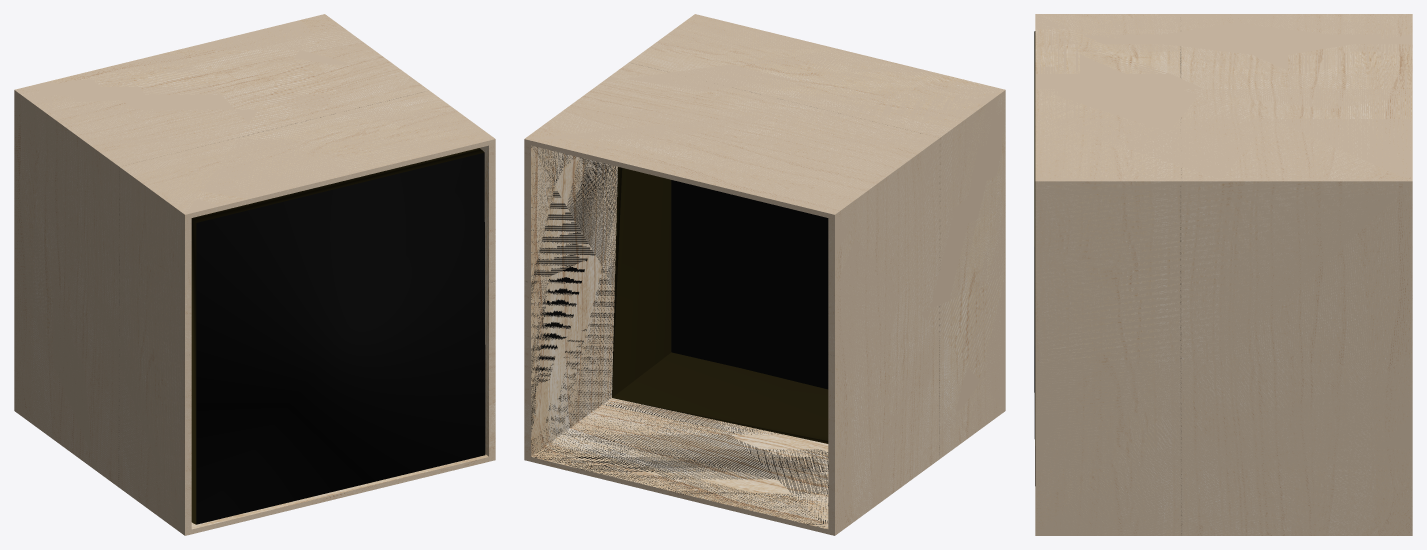
The model's file is frameAmericanWooden.glb.
3 renders of one model, left to right at view 1: azimuth 30°, elevation 25°; view 2: azimuth 150°, elevation 25°; view 3: azimuth 270°, elevation 25°, orthographic. The views are drawn at different scales.
Visible parts, largest first — view 1: Material2, A_PaintingMesh, Material3.003; view 2: Material2, Material3.003, Material3.004, Mat, A_PaintingMesh; view 3: Material2, Material3.003, A_PaintingMesh.
Part boxes in pixels (x1,y1,x2,y2): Material2: (14,14,495,535); A_PaintingMesh: (191,148,485,524); Material3.003: (14,15,495,533); Material2: (524,14,1005,535); Material3.003: (524,14,1005,534); Material3.004: (531,146,828,526); Mat: (671,180,828,389); A_PaintingMesh: (612,167,828,443); Material2: (1035,14,1412,535); Material3.003: (1035,14,1412,535); A_PaintingMesh: (1034,31,1035,485).
Size of what is drawn, in the model's own units: 1.07 by 1.05 by 1.02.
Materials: 6 (2 with a texture image).
